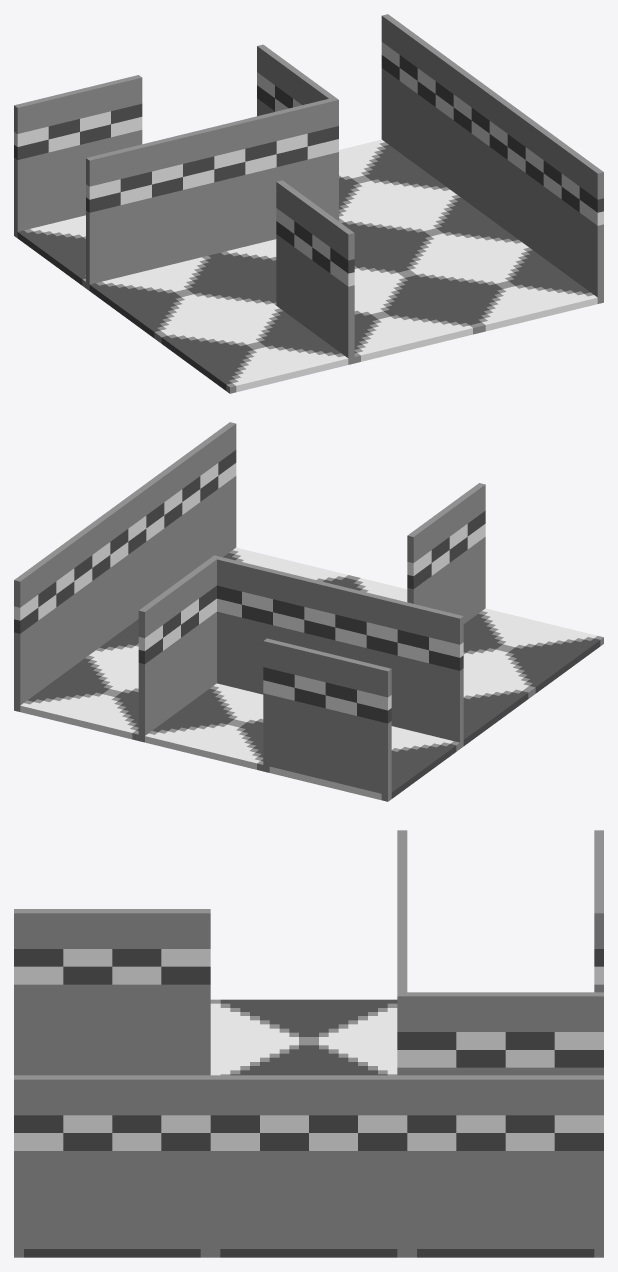
The model's file is level_maze-8.obj.
3 views of the same model, one above another, from view 1: azimuth 30°, elevation 25°; view 2: azimuth 150°, elevation 25°; view 3: azimuth 270°, elevation 25° (orthographic). The views are drawn at different scales.
Visible parts, largest first — view 1: level_maze-8; view 2: level_maze-8; view 3: level_maze-8.
Part boxes in pixels (<box>): level_maze-8: <box>14,14,603,393</box>; level_maze-8: <box>14,422,603,801</box>; level_maze-8: <box>14,830,603,1257</box>.
Size of the model in its own units: 60 by 20 by 60.
1 material, 1 textured.
